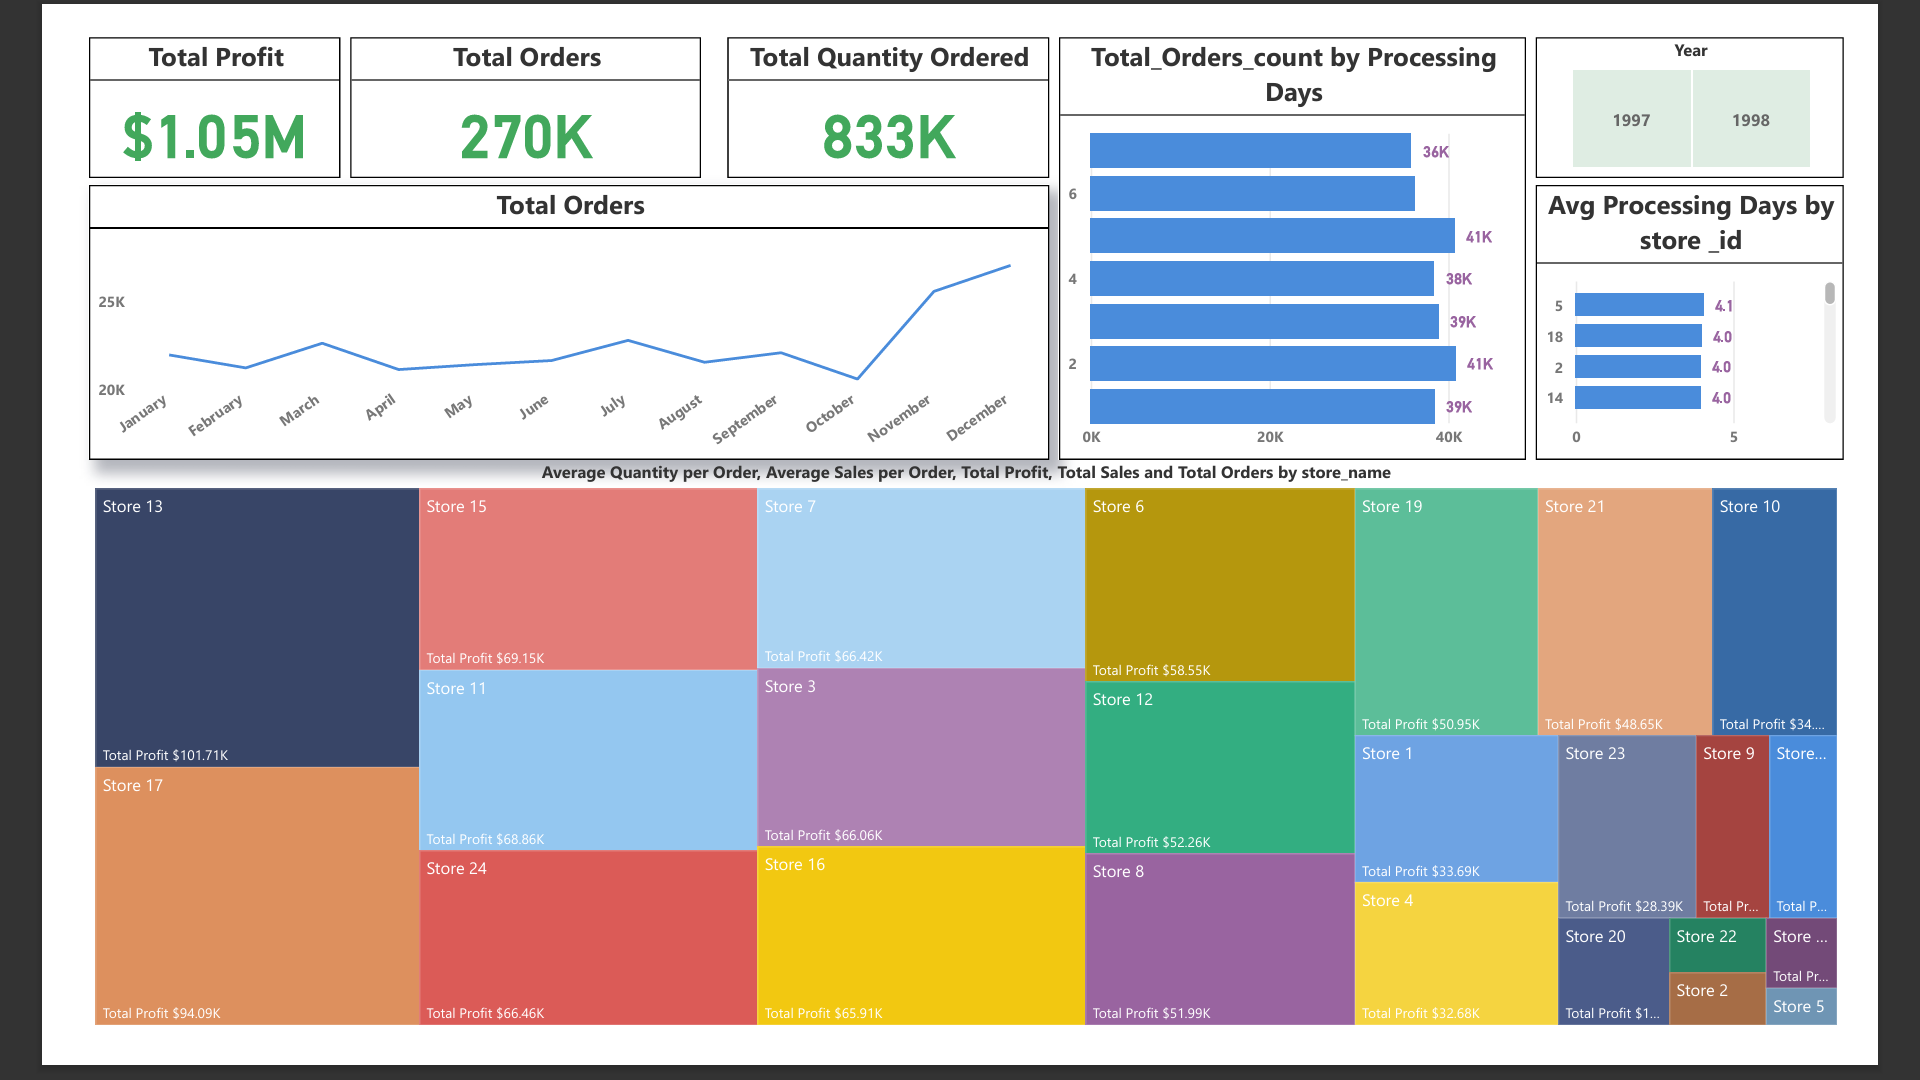

This screenshot's page, from the dashboard's own definition file:
{"tool":"powerbi","page":{"name":"Orders Overview","canvas":[1280,720],"ordinal":1},"visuals":[{"type":"card","title":"Total Profit","fields":{"Values":["Transactions_1997_Detailed.Total Profit"]},"box":[9.6,0,182.5,101.5],"z":0},{"type":"card","title":"Total Orders","fields":{"Values":["transaction_all.Total_Orders_count"]},"box":[199,0,253.9,101.5],"z":1000},{"type":"card","title":"Total Quantity Ordered","fields":{"Values":["transaction_all.Total Quantity"]},"box":[472,0,233.3,101.5],"z":2000},{"type":"lineChart","title":"Total Orders ","fields":{"Category":["market calender.Month Name"],"Y":["transaction_all.Total_Orders_count"]},"box":[9.6,107,695.7,199],"z":3000},{"type":"treemap","fields":{"Group":["store details.store_name"],"Values":["transaction_all.Average Quantity per Order","transaction_all.Average Sales per Order","Transactions_1997_Detailed.Total Profit"]},"box":[9.6,306,1270.7,414.4],"z":4000},{"type":"barChart","fields":{"Category":["transaction_all.Processing Days"],"Y":["transaction_all.Total_Orders_count"]},"box":[712.2,0,337.6,306],"z":5000},{"type":"slicer","title":"Year","fields":{"Values":["market calender.Year"]},"box":[1056.6,0,223.7,101.5],"z":6000},{"type":"barChart","title":"Avg Processing Days by store _id","fields":{"Category":["store details.store_id"],"Y":["regions.Avg Processing Days"]},"box":[1056.6,107,223.7,199],"z":7000}]}

Visuals, with their boxes in screenshot pixels (x1, y1, x2, y2), scaled from the page's 1280x720 canvas onto the 1920x1080 screenshot:
"Total Profit" card: x1=14, y1=0, x2=288, y2=152
"Total Orders" card: x1=298, y1=0, x2=679, y2=152
"Total Quantity Ordered" card: x1=708, y1=0, x2=1058, y2=152
"Total Orders " lineChart: x1=14, y1=160, x2=1058, y2=459
treemap - store details.store_name x transaction_all.Average Quantity per Order: x1=14, y1=459, x2=1919, y2=1079
barChart - transaction_all.Processing Days x transaction_all.Total_Orders_count: x1=1068, y1=0, x2=1575, y2=459
"Year" slicer: x1=1585, y1=0, x2=1919, y2=152
"Avg Processing Days by store _id" barChart: x1=1585, y1=160, x2=1919, y2=459
